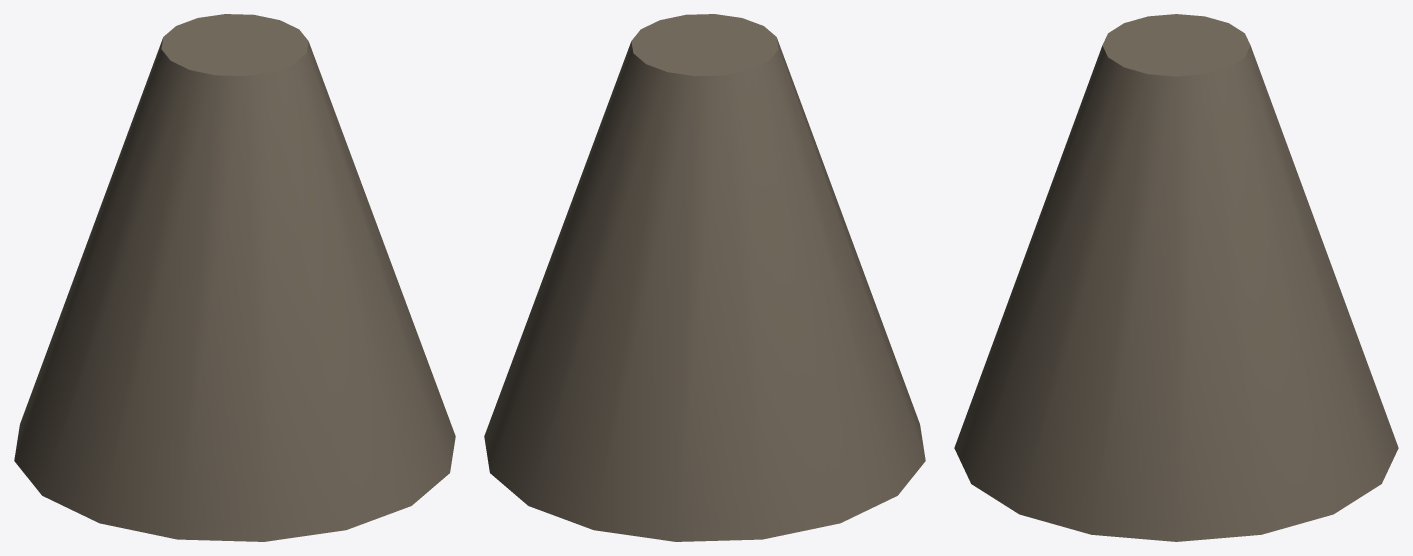
The model's file is angrut.glb.
3 views of the same model, side by side, from view 1: azimuth 30°, elevation 25°; view 2: azimuth 150°, elevation 25°; view 3: azimuth 270°, elevation 25° (orthographic).
Bounding box in the file's own units: 1.8 × 1.8 × 1.8.
